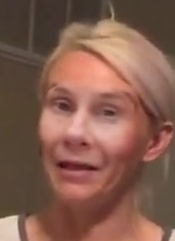eb_f: (40, 79, 140, 122)
